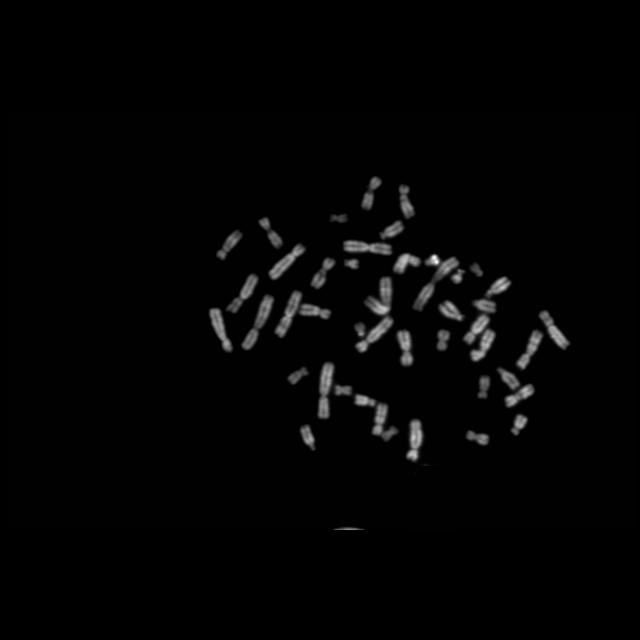chromosome: (414, 257, 458, 311), (242, 294, 274, 350), (355, 316, 393, 352), (269, 244, 305, 280), (538, 310, 570, 350), (227, 274, 258, 314), (276, 292, 302, 338), (516, 330, 542, 370), (211, 308, 234, 352), (364, 278, 392, 314), (318, 362, 334, 418), (217, 228, 243, 260), (464, 313, 490, 343), (471, 330, 495, 362), (406, 421, 424, 462), (312, 258, 334, 290), (261, 218, 284, 248), (343, 241, 392, 255), (362, 177, 382, 210), (506, 384, 534, 406), (397, 330, 413, 366), (485, 276, 511, 298), (372, 402, 388, 436), (394, 253, 421, 273), (438, 300, 464, 320), (497, 367, 519, 389), (300, 303, 330, 319), (400, 186, 414, 218), (300, 425, 316, 451), (381, 221, 404, 239), (511, 414, 527, 436), (287, 368, 308, 384), (466, 430, 488, 444), (381, 426, 399, 442), (474, 300, 496, 312), (478, 376, 490, 398), (438, 331, 450, 352), (356, 394, 374, 406), (452, 268, 464, 284), (330, 213, 348, 223), (426, 254, 440, 266), (336, 386, 352, 396), (470, 264, 482, 276), (345, 259, 359, 269), (355, 324, 365, 336)
